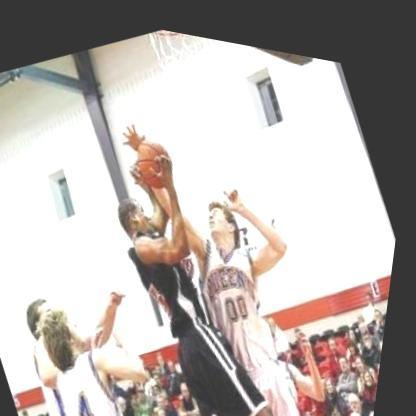basketball: (123, 119, 193, 196)
